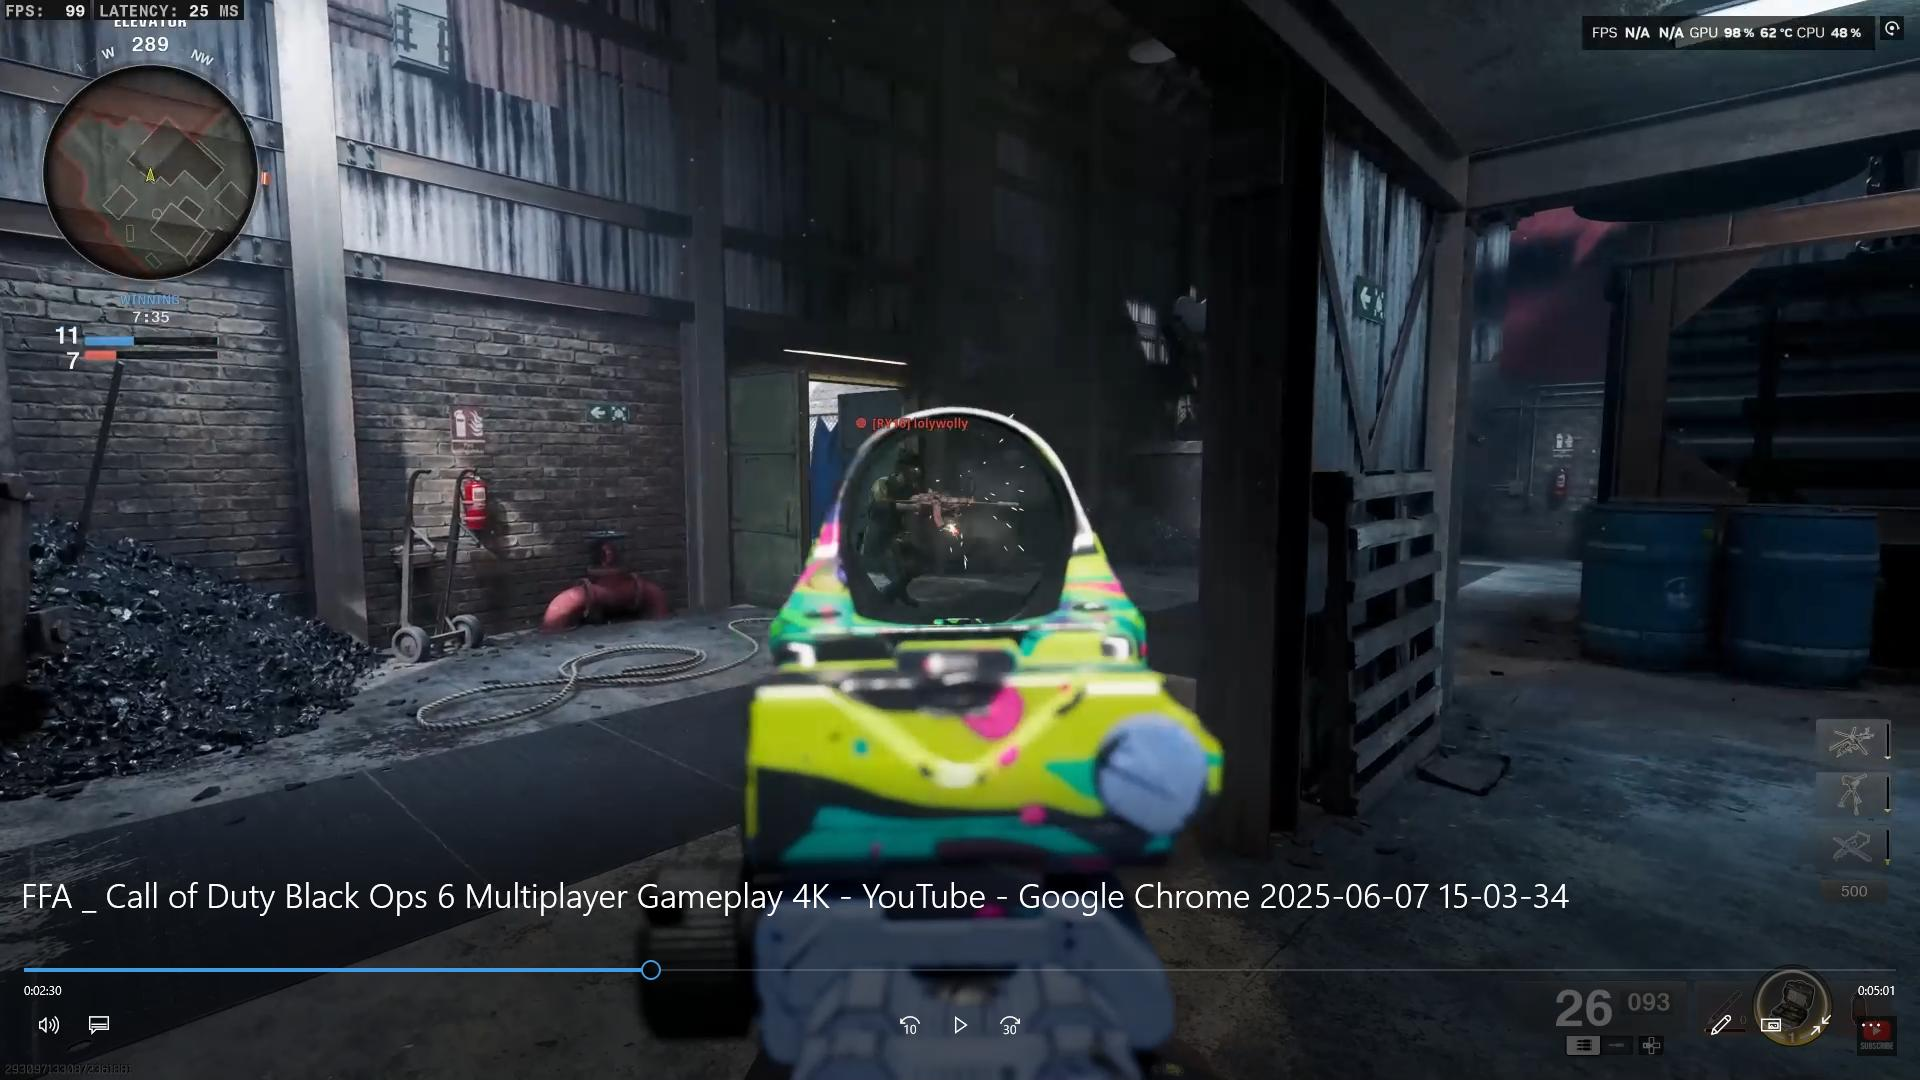Enemy: (862, 439, 953, 603)
